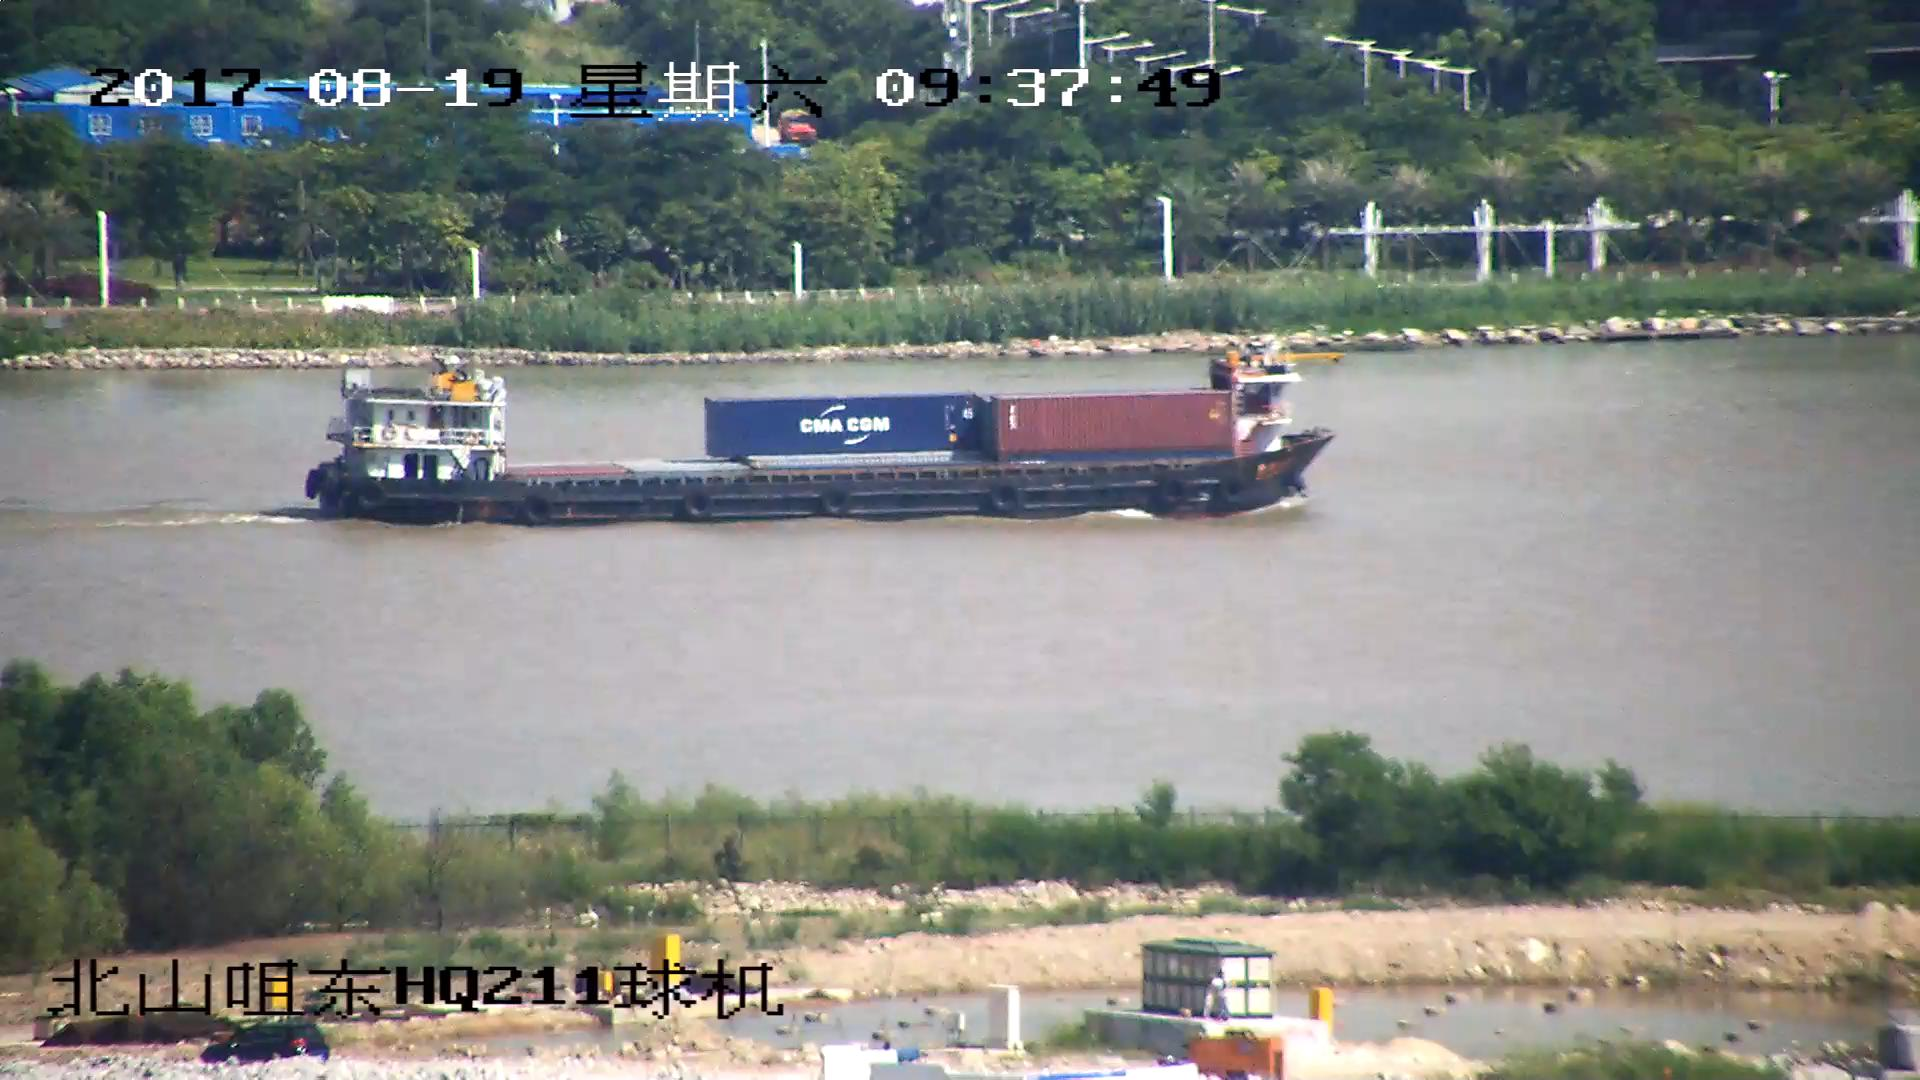container ship: (303, 352, 1340, 526)
